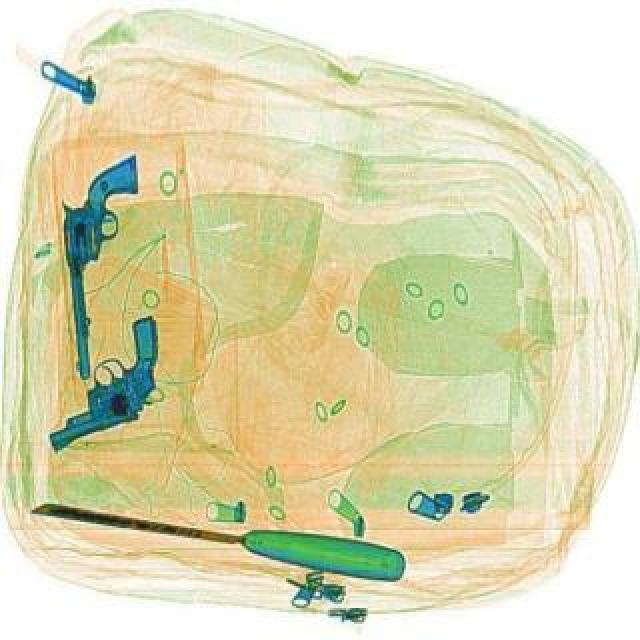gun: (38, 300, 198, 472), (66, 152, 140, 376)
knife: (32, 476, 410, 584)
